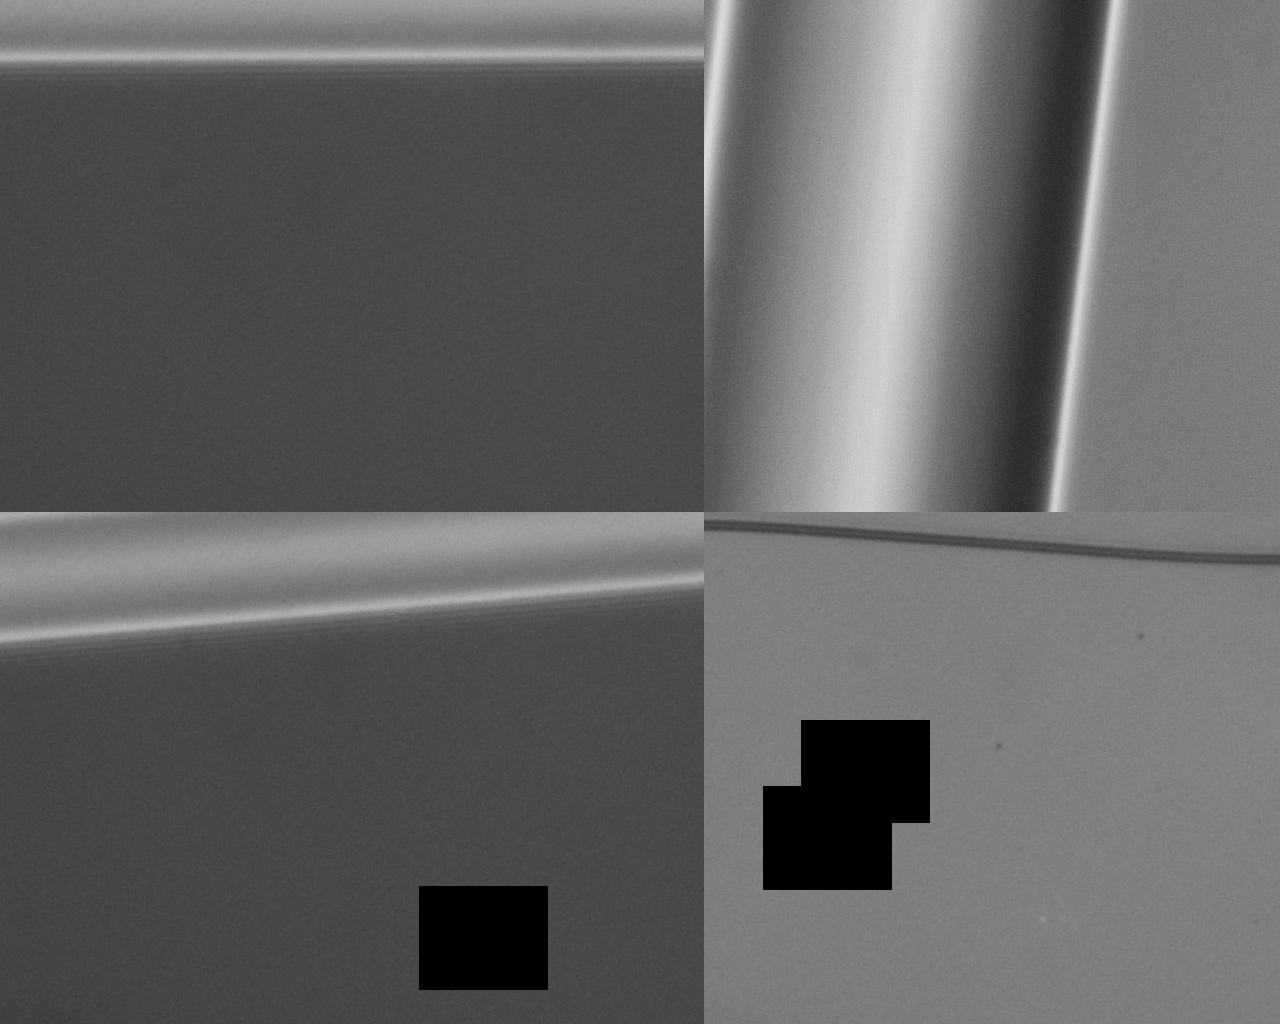fiber: (160, 512, 353, 1024), (983, 512, 1124, 1024), (379, 325, 652, 512)
